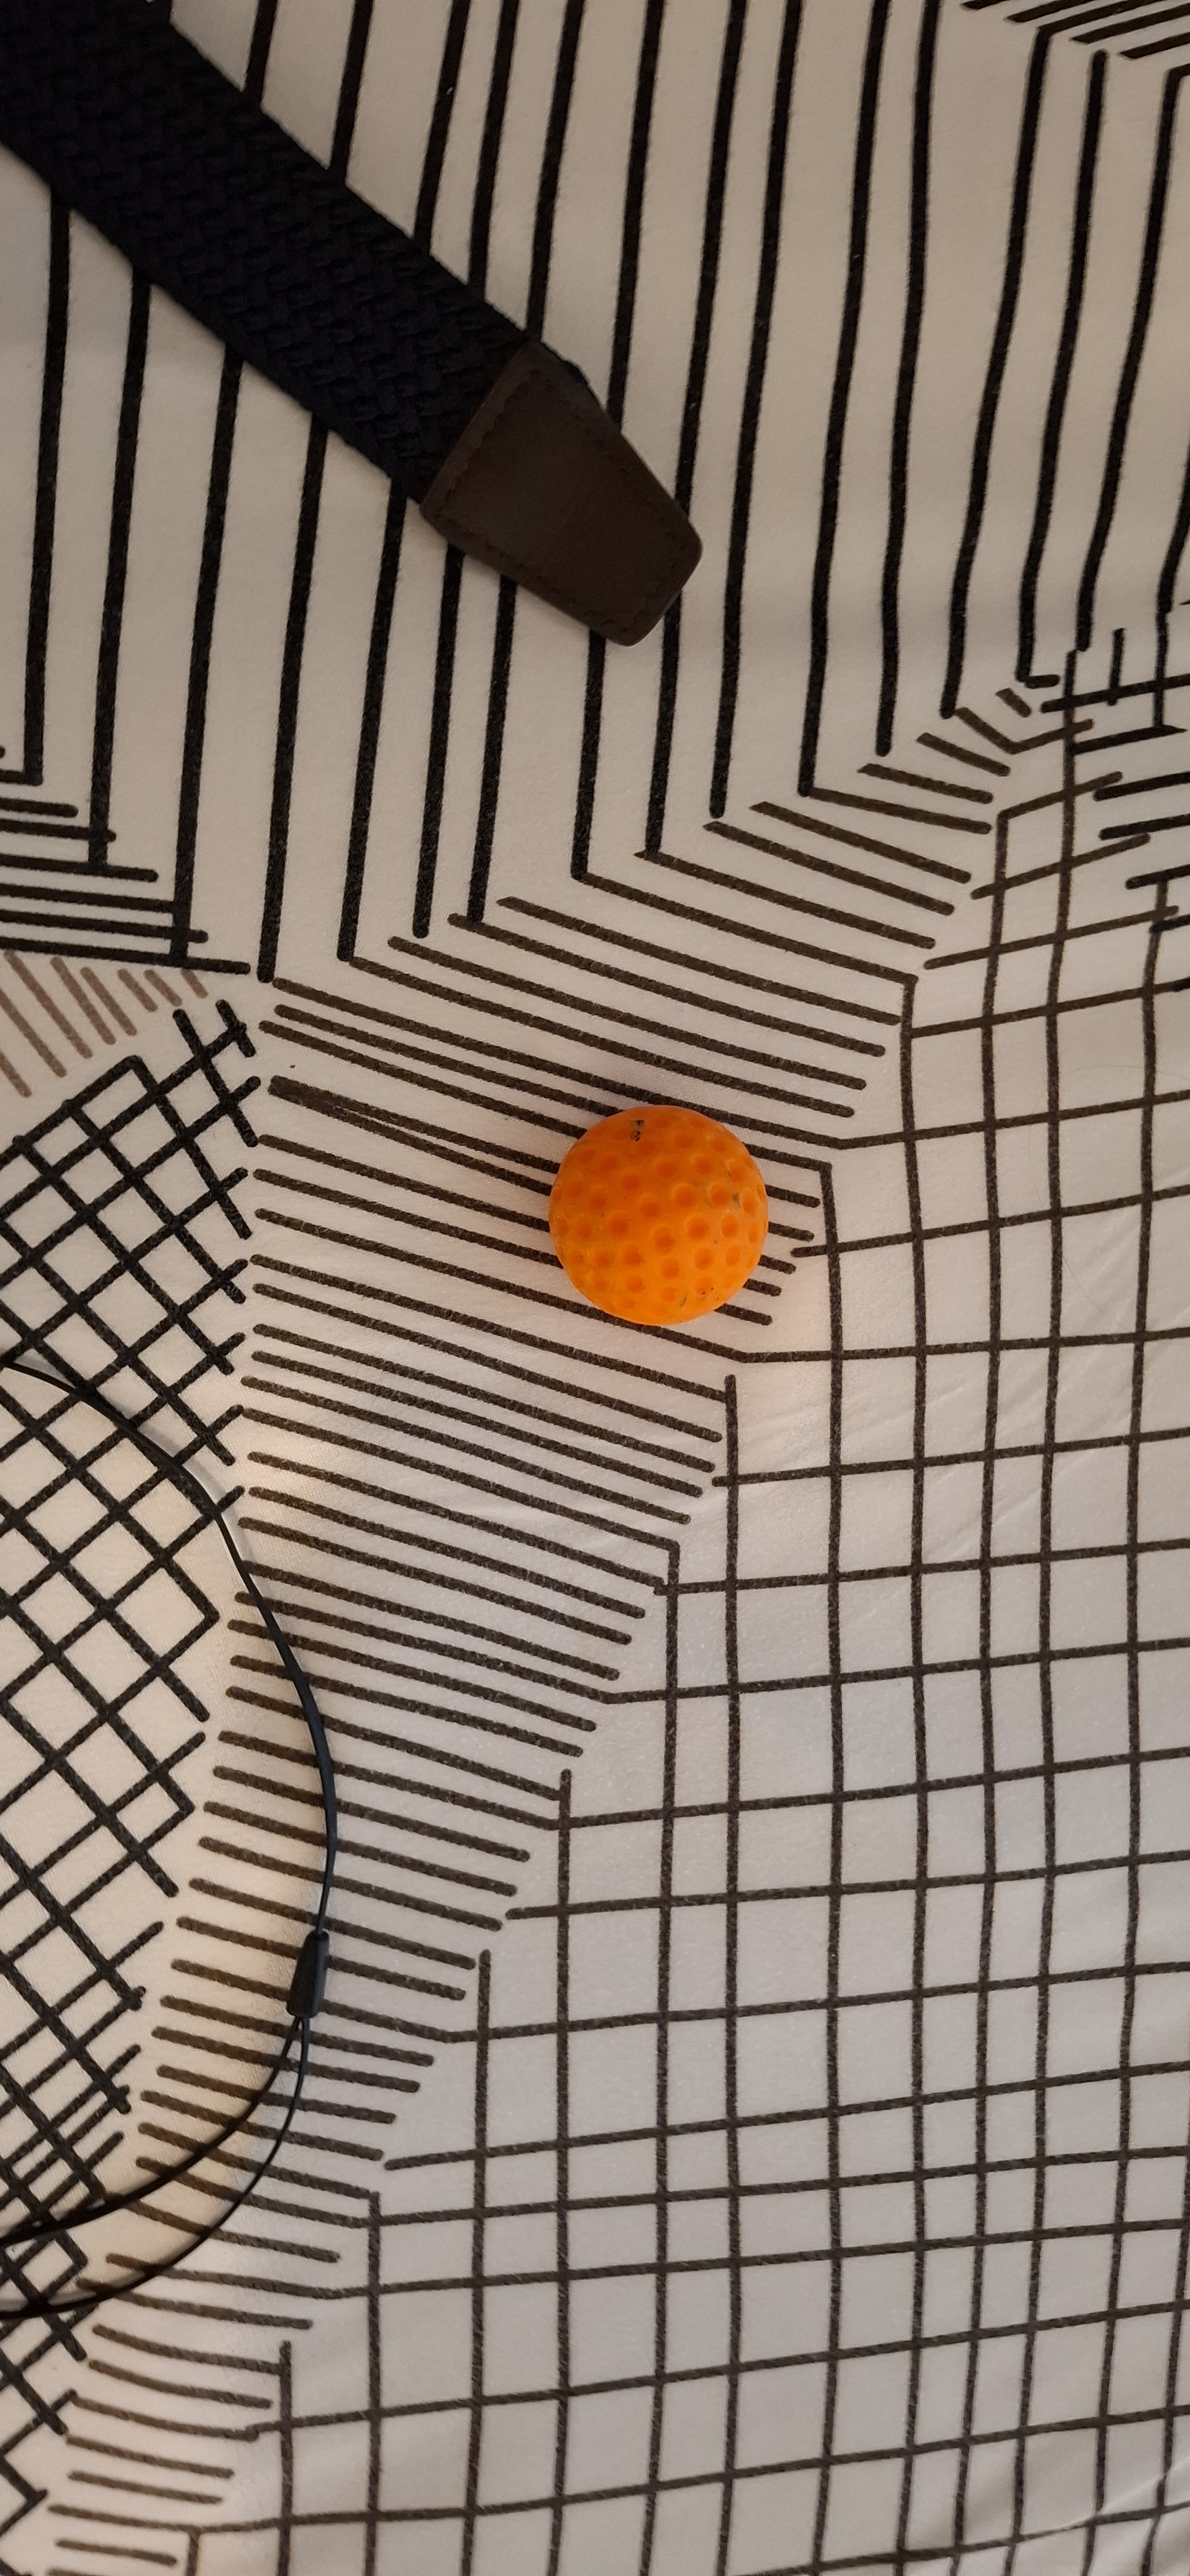ball: (508, 904, 616, 1406)
